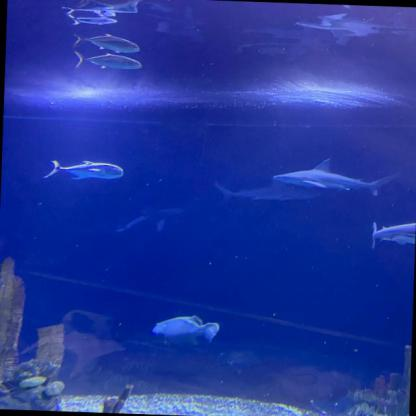fish: (150, 314, 218, 349), (41, 157, 126, 182), (70, 48, 146, 71), (69, 32, 142, 55), (72, 0, 154, 13), (62, 10, 119, 28)
shark: (271, 156, 401, 198), (215, 181, 336, 203), (107, 202, 182, 234), (370, 215, 416, 252)
